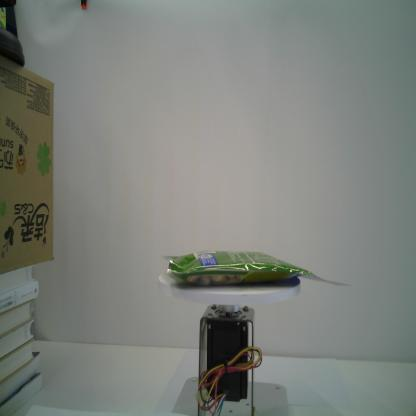Dried Fruit: (150, 247, 354, 290)
